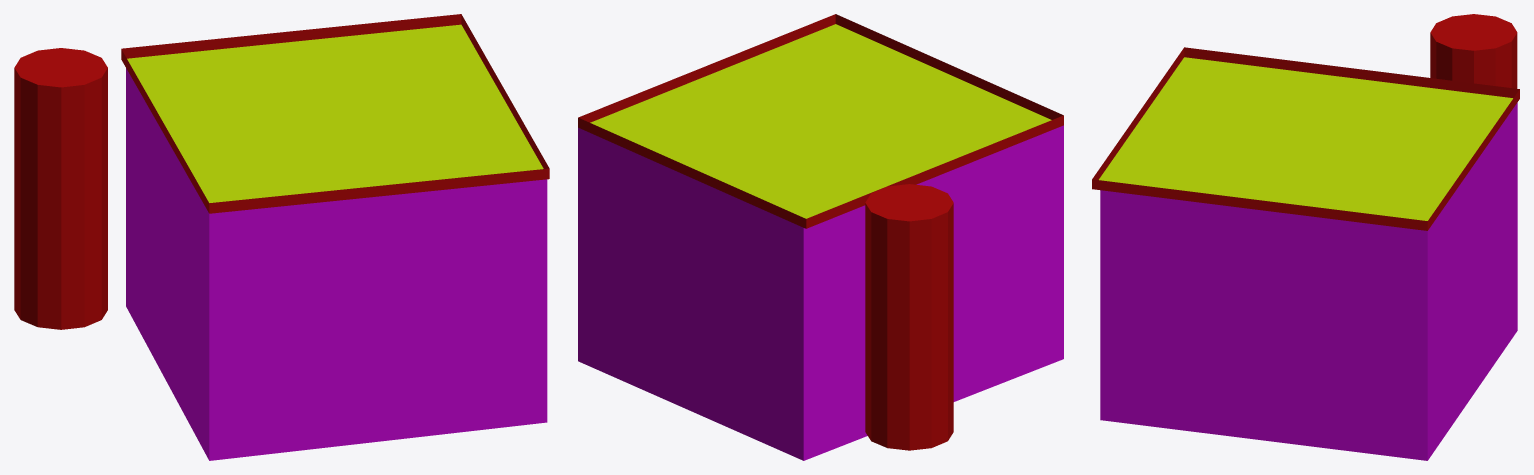
File: rmc_2.glb
3 renders of one model, left to right at view 1: azimuth 30°, elevation 25°; view 2: azimuth 150°, elevation 25°; view 3: azimuth 270°, elevation 25°, orthographic. The views are drawn at different scales.
Parts seen in each view (by area): view 1: rmc_2; view 2: rmc_2; view 3: rmc_2.
Part boxes in pixels (x1,y1,x2,y2): rmc_2: (14,14,549,460); rmc_2: (578,14,1063,460); rmc_2: (1092,14,1519,460).
Size of the model in its own units: 14.36 by 9.16 by 13.75.
